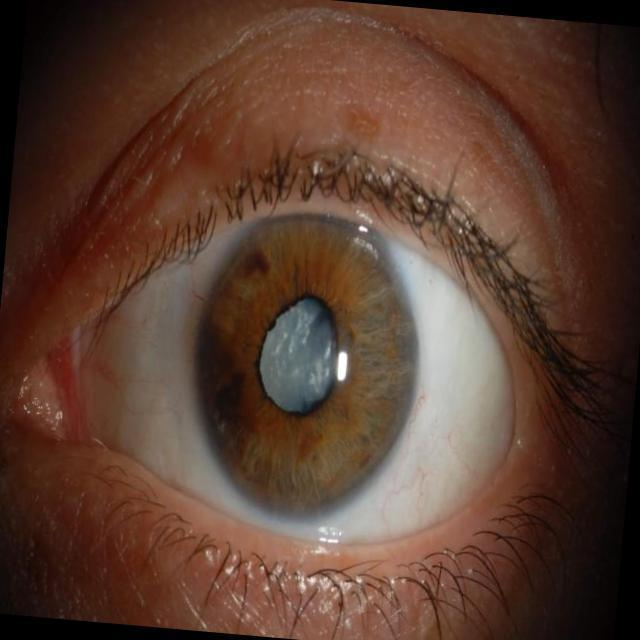Cataract: (191, 195, 423, 483)
